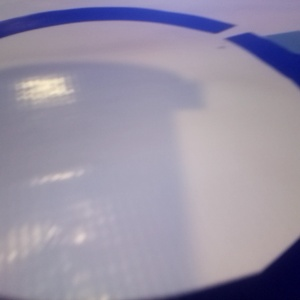top_right: (221, 33, 300, 71), (142, 21, 227, 54)
